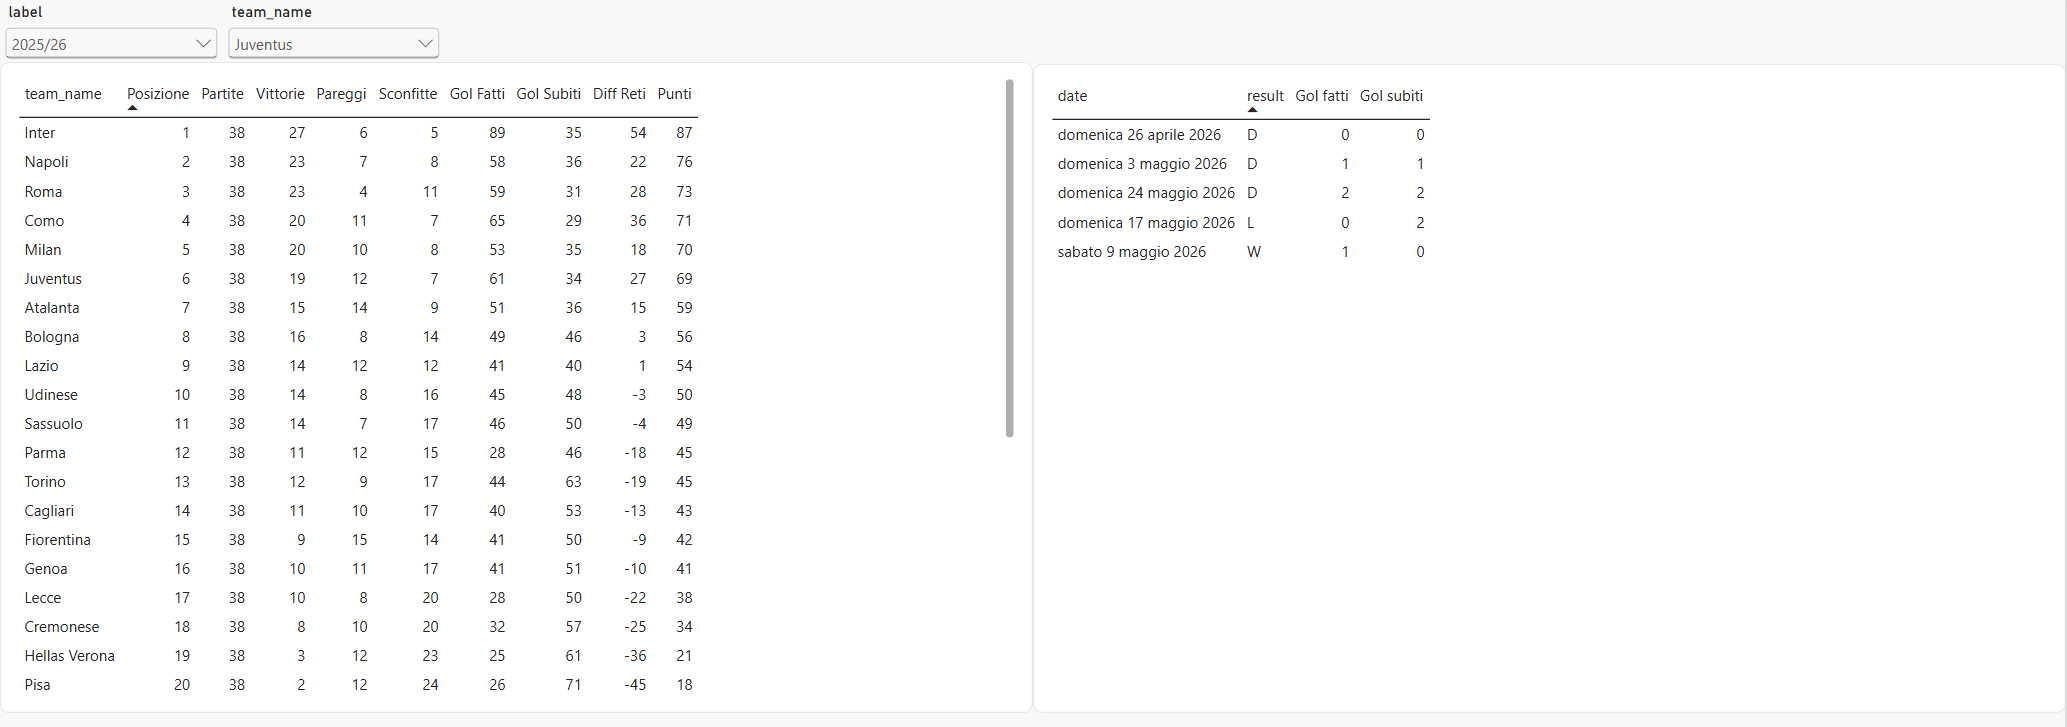

The page's visual inventory and layout, read from the dashboard file:
{"tool":"powerbi","page":{"name":"Classifica","canvas":[1920,1080],"ordinal":0},"visuals":[{"type":"tableEx","fields":{"Values":["dim_team.team_name","Misure.Posizione","Misure.Partite","Misure.Vittorie","Misure.Pareggi","Misure.Sconfitte","Misure.Gol Fatti","Misure.Gol Subiti","Misure.Diff Reti","Misure.Punti"]},"box":[0,61.8,960,604.7],"z":0},{"type":"slicer","fields":{"Values":["dim_season.label"]},"box":[0,7.4,207.1,75.6],"z":1000},{"type":"slicer","fields":{"Values":["dim_team.team_name"]},"box":[207.3,7.4,206.1,63.8],"z":1001},{"type":"tableEx","fields":{"Values":["dim_date.date","fact_team_match.result","Sum(fact_team_match.goals_for)","Sum(fact_team_match.goals_against)"]},"box":[960,63.8,960,602.7],"z":1002}]}

Visuals, with their boxes on the page's 1920x1080 design canvas (x1, y1, x2, y2). These are canvas units, not pixel positions in the 2067x727 screenshot, which may show the page scaled, cropped or inside an application window:
tableEx - dim_team.team_name x Misure.Posizione: l=0, t=62, r=960, b=666
slicer - dim_season.label: l=0, t=7, r=207, b=83
slicer - dim_team.team_name: l=207, t=7, r=413, b=71
tableEx - dim_date.date x fact_team_match.result: l=960, t=64, r=1920, b=666
